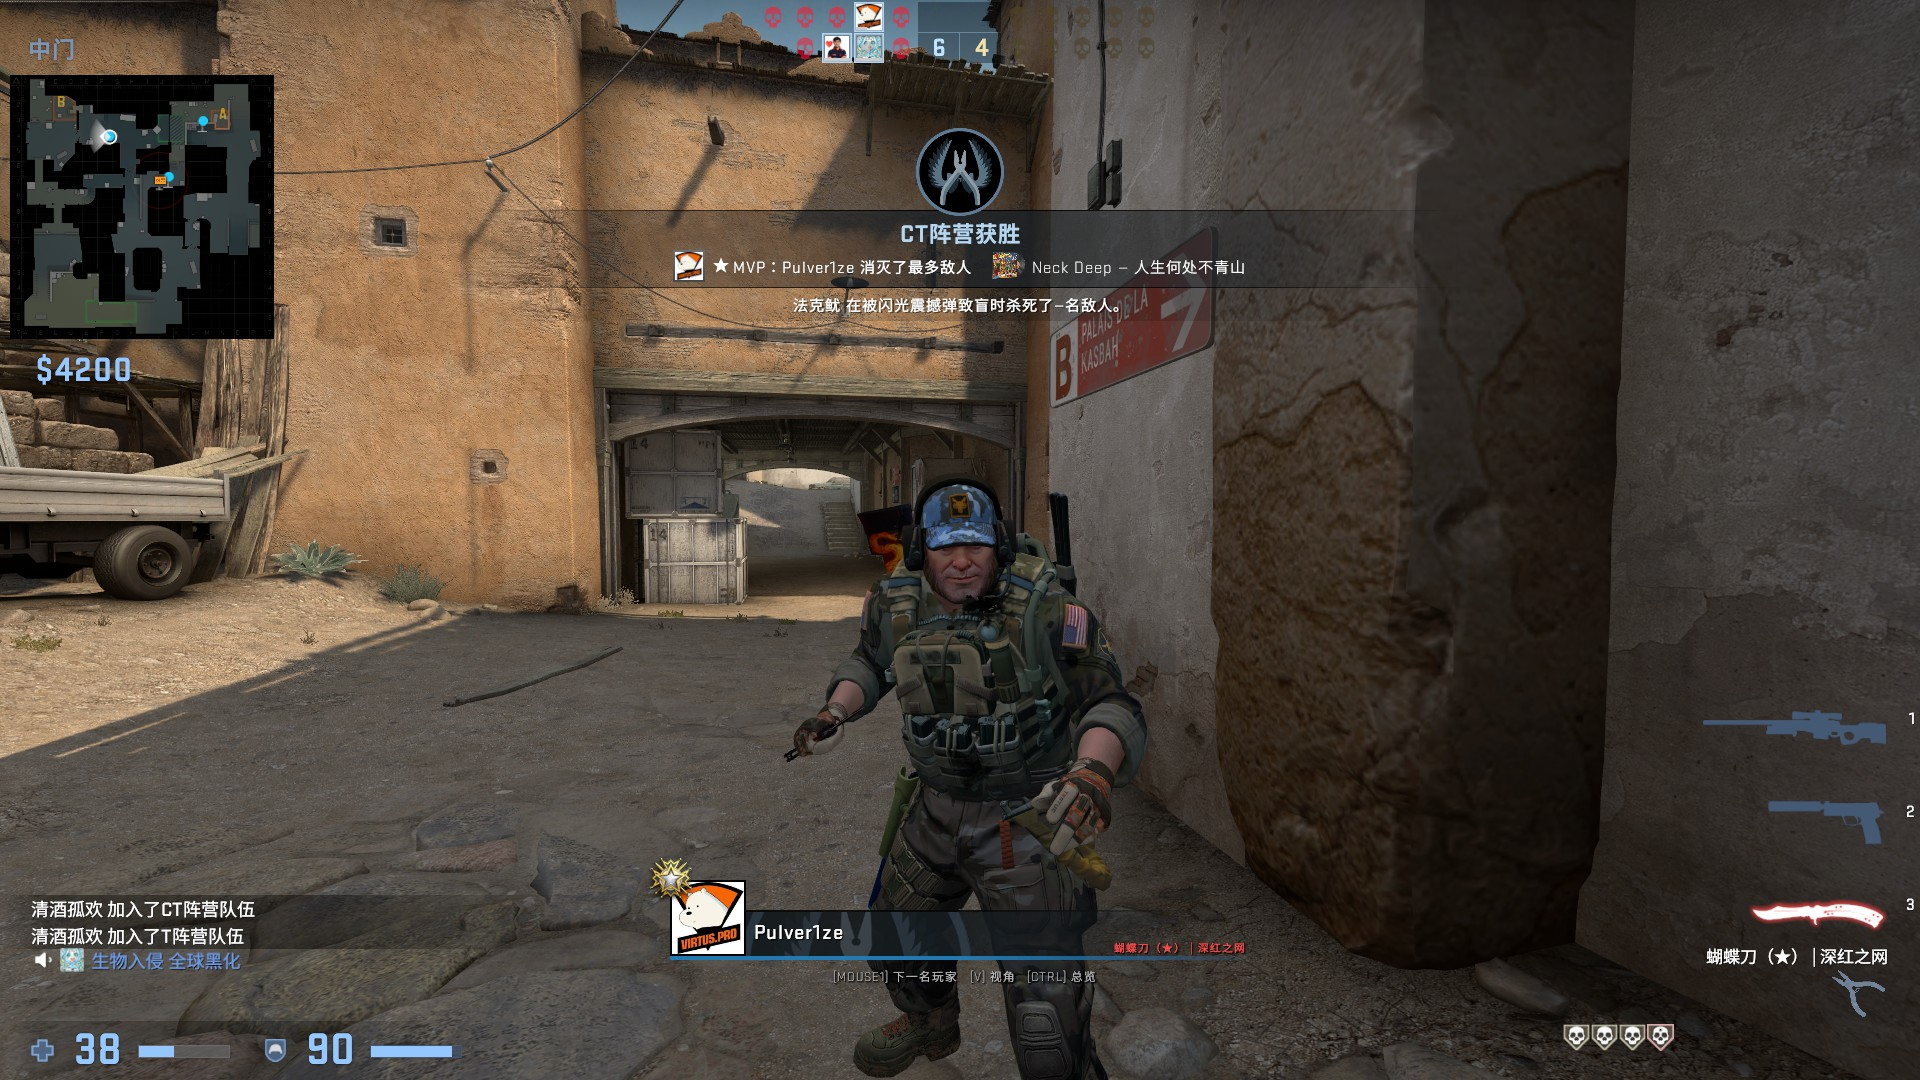head: (912, 472, 1008, 608)
